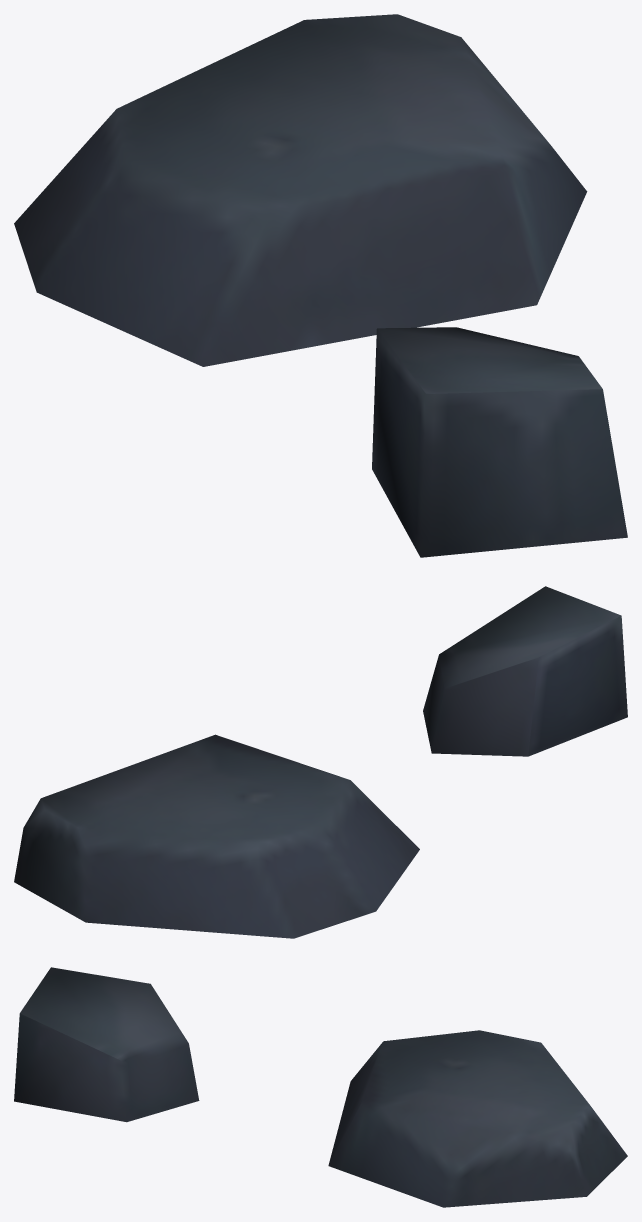
File: Area_02_19.fbx
3 views of the same model, one above another, from view 1: azimuth 30°, elevation 25°; view 2: azimuth 150°, elevation 25°; view 3: azimuth 270°, elevation 25° (orthographic). The views are drawn at different scales.
Parts seen in each view (by area): view 1: Area_02_19; view 2: Area_02_19; view 3: Area_02_19.
Boxes of the visible parts, x1,y1,x2,y2 form: Area_02_19: (14, 14, 627, 557); Area_02_19: (14, 586, 627, 938); Area_02_19: (14, 967, 627, 1207).
Size of the model in its own units: 117 by 39.04 by 215.
